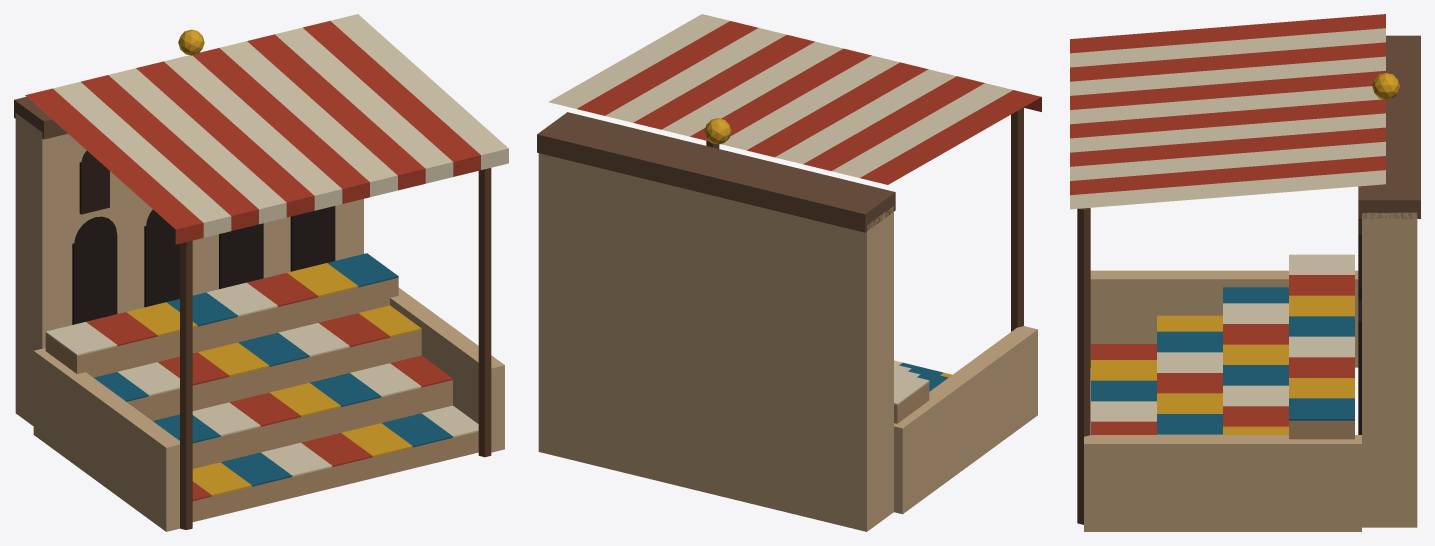
The model's file is stand.glb.
3 views of the same model, side by side, from view 1: azimuth 30°, elevation 25°; view 2: azimuth 150°, elevation 25°; view 3: azimuth 270°, elevation 25° (orthographic). The views are drawn at different scales.
Parts seen in each view (by area): view 1: cappadocia-stand; view 2: cappadocia-stand; view 3: cappadocia-stand.
Boxes of the visible parts, <box> form: cappadocia-stand: <box>14,14,508,531</box>; cappadocia-stand: <box>537,14,1041,531</box>; cappadocia-stand: <box>1070,14,1420,531</box>.
Bounding box in the file's own units: 1.18 × 1.18 × 1.01.
